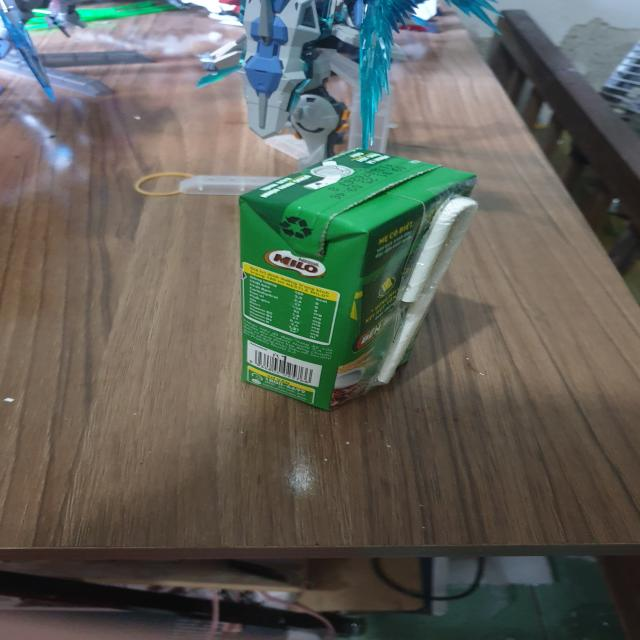Milo: (237, 145, 486, 416)
